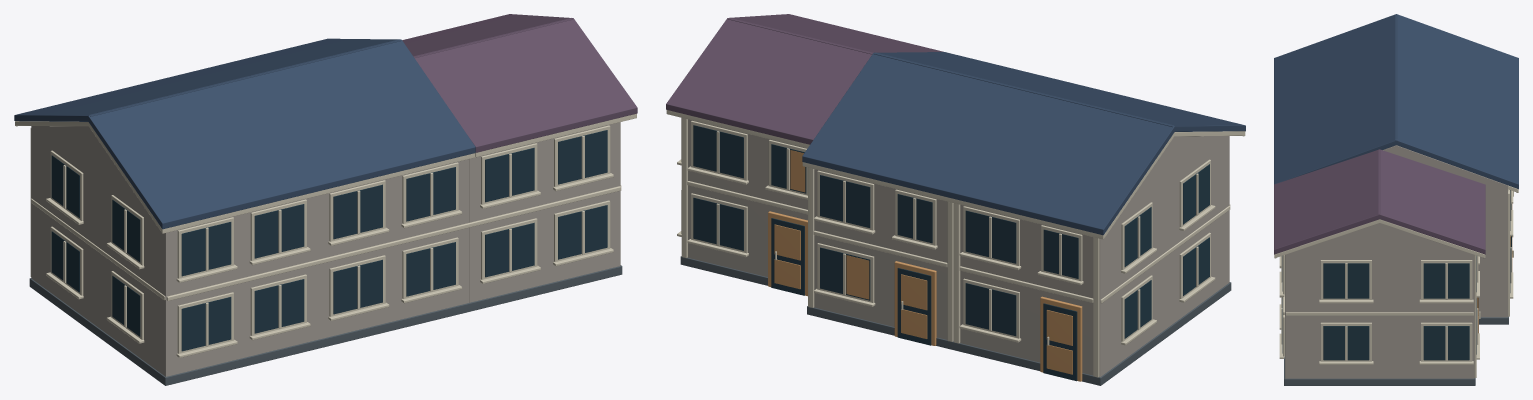
File: d02_house_family_03.glb
3 views of the same model, side by side, from view 1: azimuth 30°, elevation 25°; view 2: azimuth 150°, elevation 25°; view 3: azimuth 270°, elevation 25° (orthographic). The views are drawn at different scales.
Visible parts, largest first — view 1: D02HouseFamily03_Mesh; view 2: D02HouseFamily03_Mesh; view 3: D02HouseFamily03_Mesh.
Boxes of the visible parts, box(x1,y1,x2,y2) form: D02HouseFamily03_Mesh: box(14, 14, 637, 385); D02HouseFamily03_Mesh: box(666, 14, 1245, 385); D02HouseFamily03_Mesh: box(1274, 14, 1518, 385).
Bounding box in the file's own units: 16.3 × 7.3 × 8.8.
